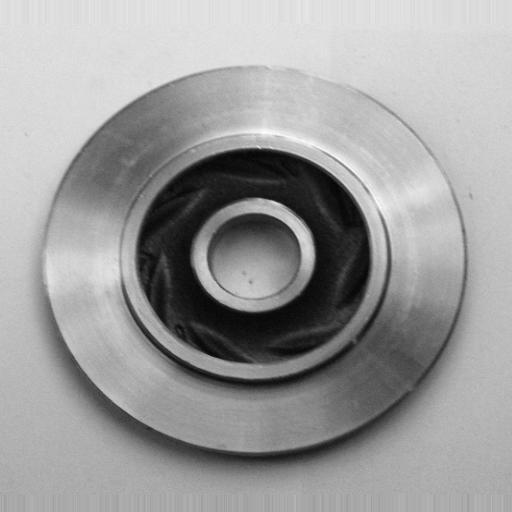unpolished_casting: (42, 62, 469, 459)
